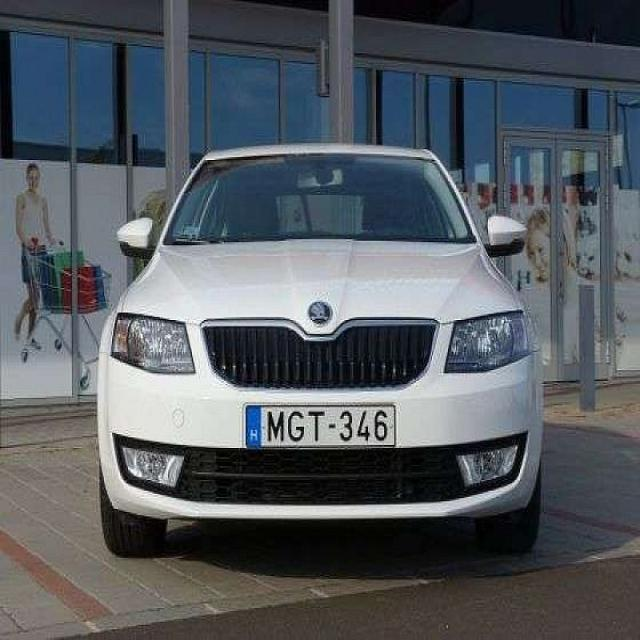licence: (244, 403, 398, 447)
